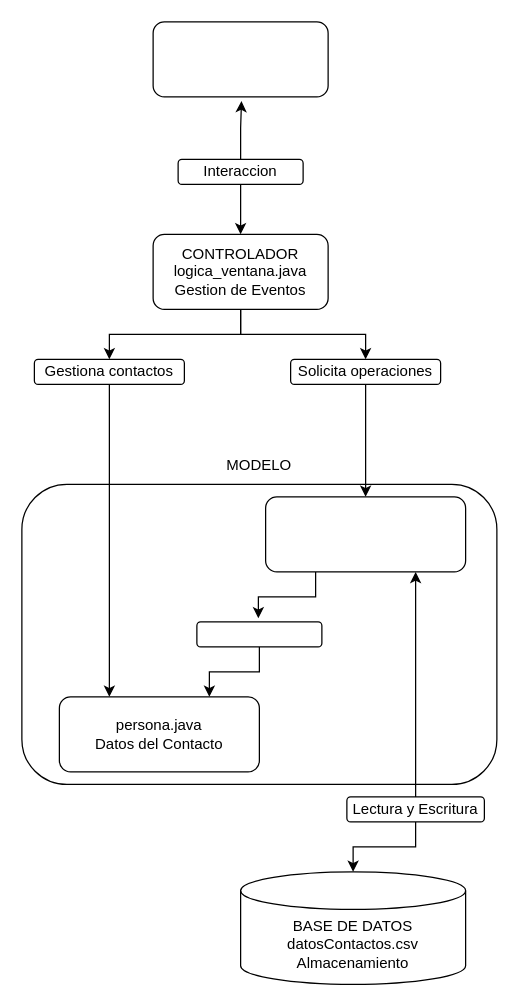
The diagram is 519 pixels wide and 1006 high, and some of its shapes have lost their labels. The centre of each missing label's shape, as x and y in pixels:
personaDAO.java Persistencia de Datos: point (365, 534)
Utiliza objetos: point (259, 634)
VISTA ventana.java Interfaz Grafica: point (240, 59)
